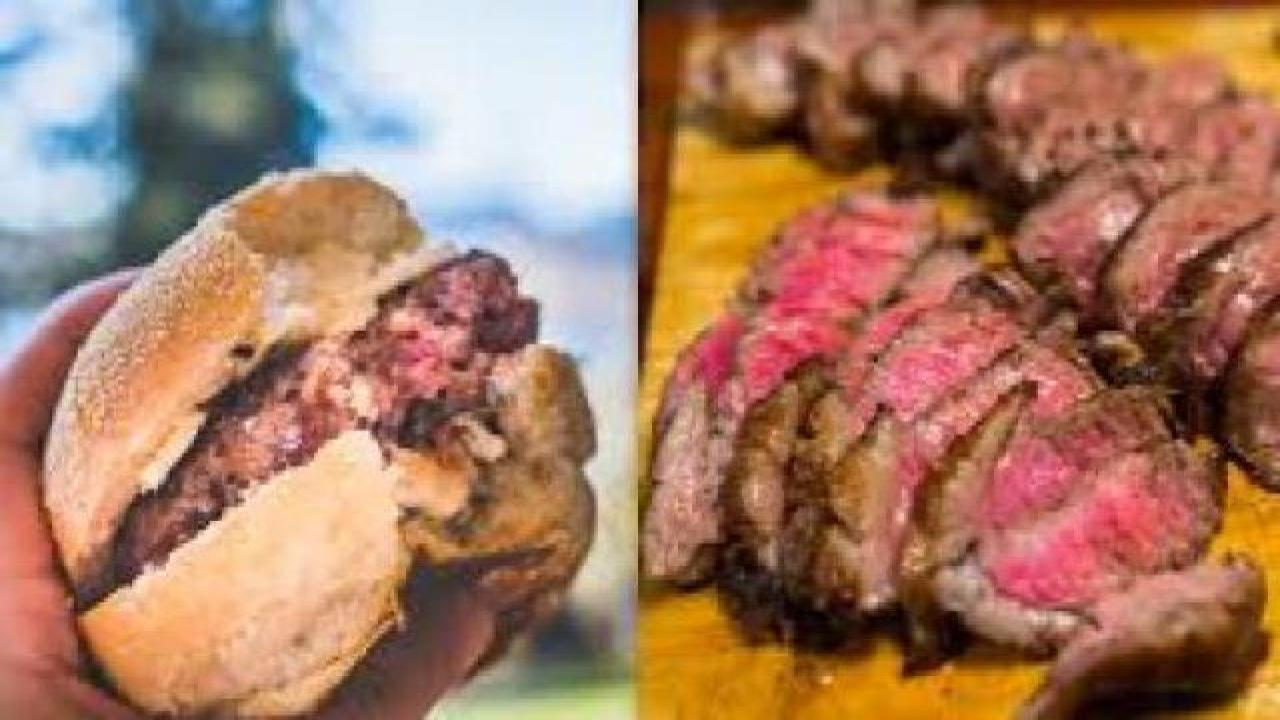Carne: (683, 183, 1215, 646)
